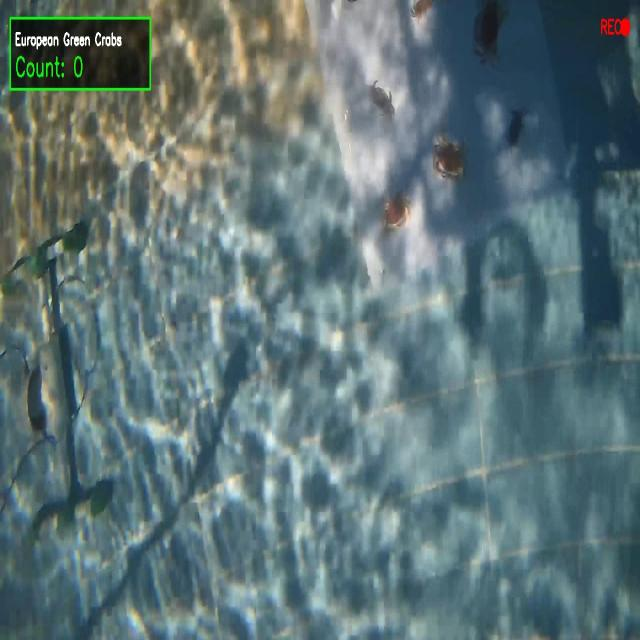European_Green_Crab: (362, 68, 399, 132), (503, 105, 528, 157)
